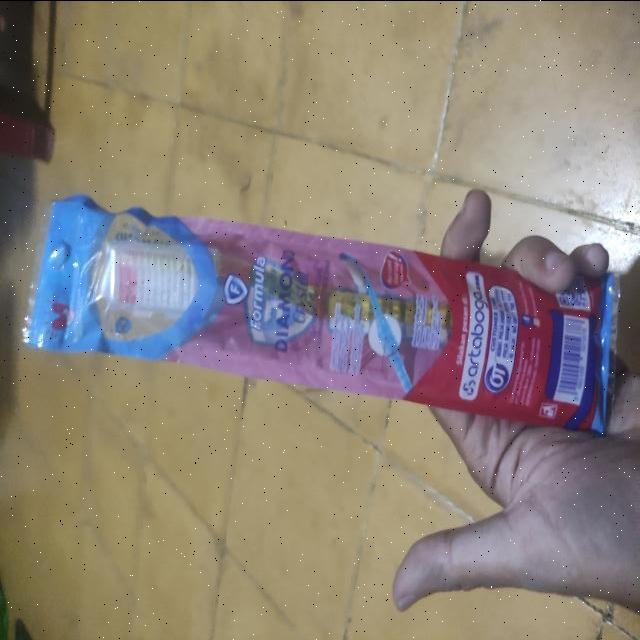toothbrush: (84, 236, 546, 374)
